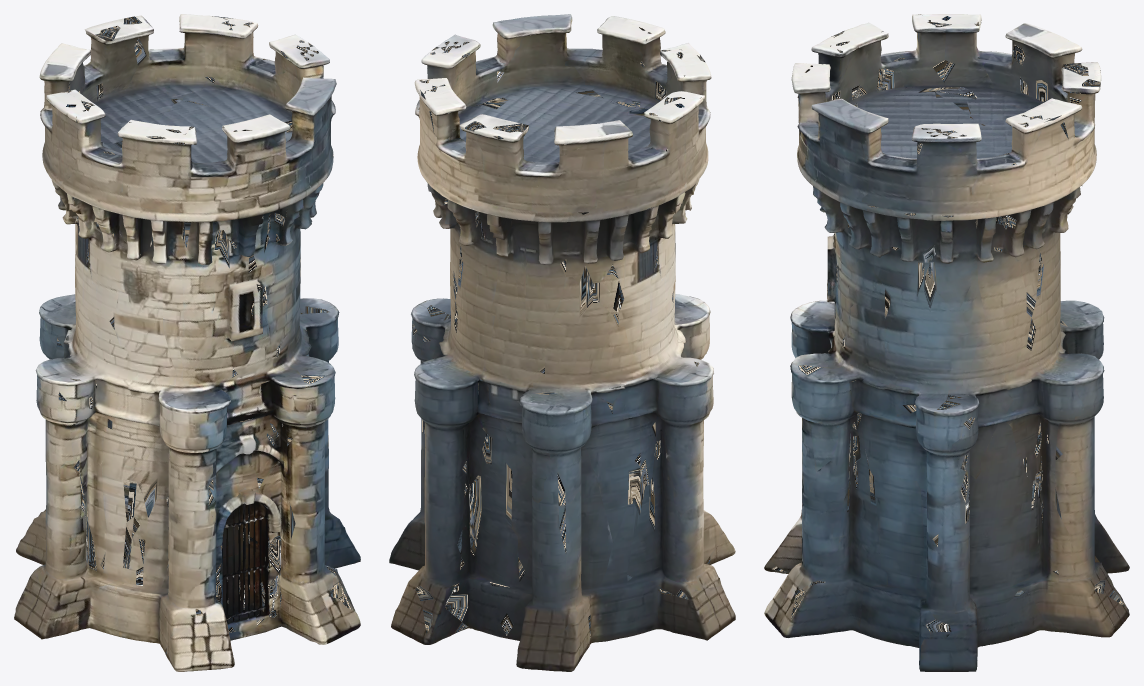
Rendered from w1_tower.glb.
The picture shows the model from 3 angles, left to right: view 1: azimuth 30°, elevation 25°; view 2: azimuth 150°, elevation 25°; view 3: azimuth 270°, elevation 25°; orthographic projection.
Visible parts, largest first — view 1: tower; view 2: tower; view 3: tower.
Part boxes in pixels (x1,y1,x2,y2): tower: [14, 14, 360, 671]; tower: [389, 14, 735, 671]; tower: [764, 14, 1129, 671].
Size of the model in its own units: 10.39 by 16 by 10.23.
1 material, 1 textured.
